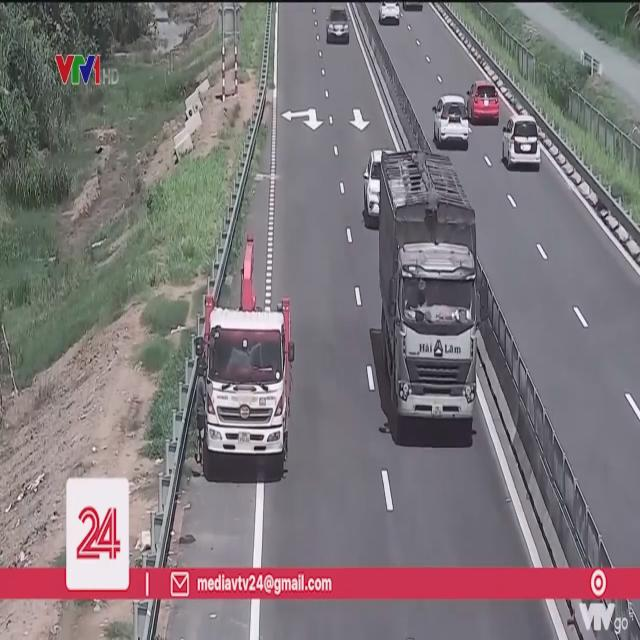car: (432, 97, 472, 150), (502, 117, 540, 171), (466, 80, 501, 127), (326, 6, 351, 44), (381, 3, 404, 27)
truck: (374, 150, 480, 441), (204, 294, 290, 476)
